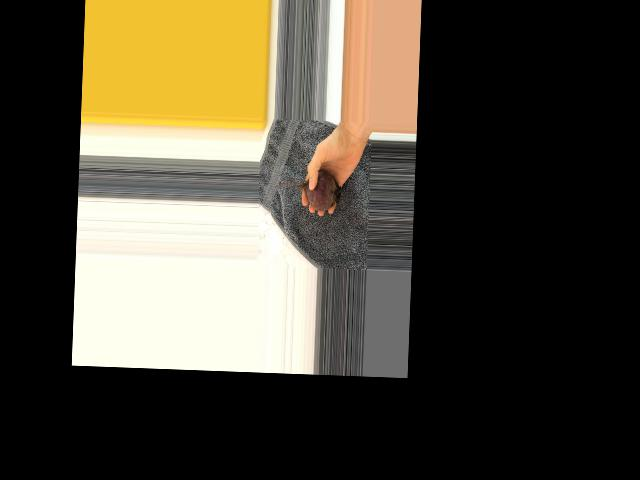beet: (274, 169, 342, 212)
